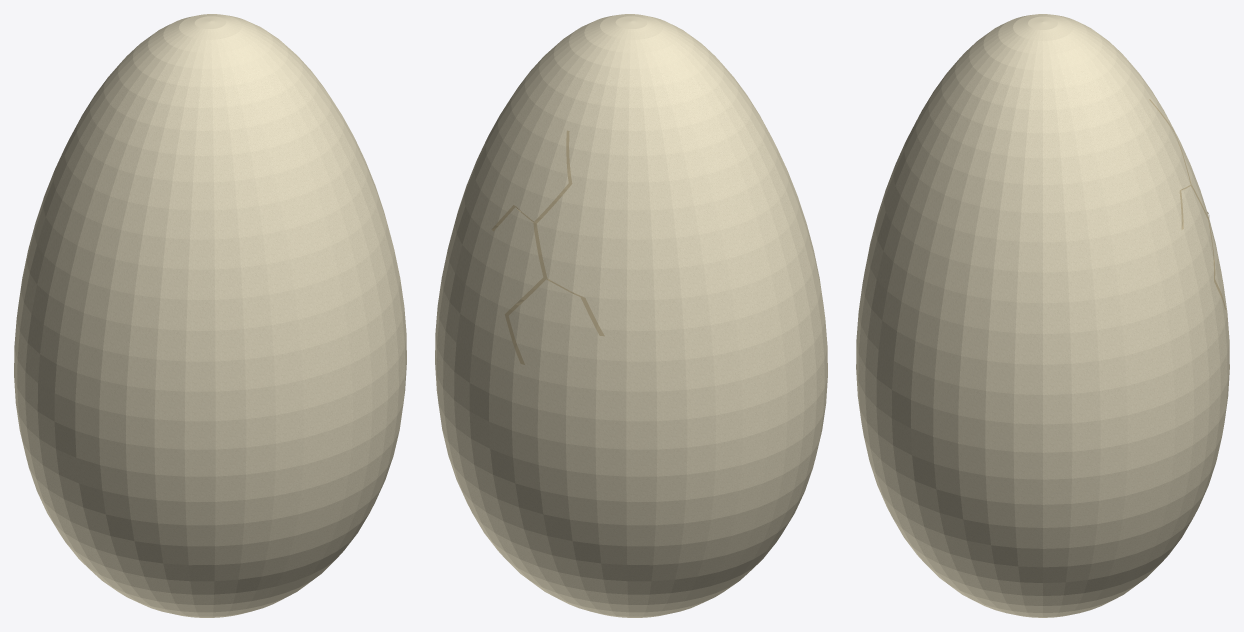
Rendered from house_egg_cracked.obj.
3 views of the same model, side by side, from view 1: azimuth 30°, elevation 25°; view 2: azimuth 150°, elevation 25°; view 3: azimuth 270°, elevation 25° (orthographic).
Parts seen in each view (by area): view 1: house_egg_cracked; view 2: house_egg_cracked; view 3: house_egg_cracked.
Boxes of the visible parts, bbox=[...] form: house_egg_cracked: bbox=[14, 14, 406, 617]; house_egg_cracked: bbox=[435, 14, 827, 617]; house_egg_cracked: bbox=[856, 14, 1229, 617].
Size of the model in its own units: 0.993 by 1.6 by 0.9335.
Materials: 1 (1 with a texture image).
